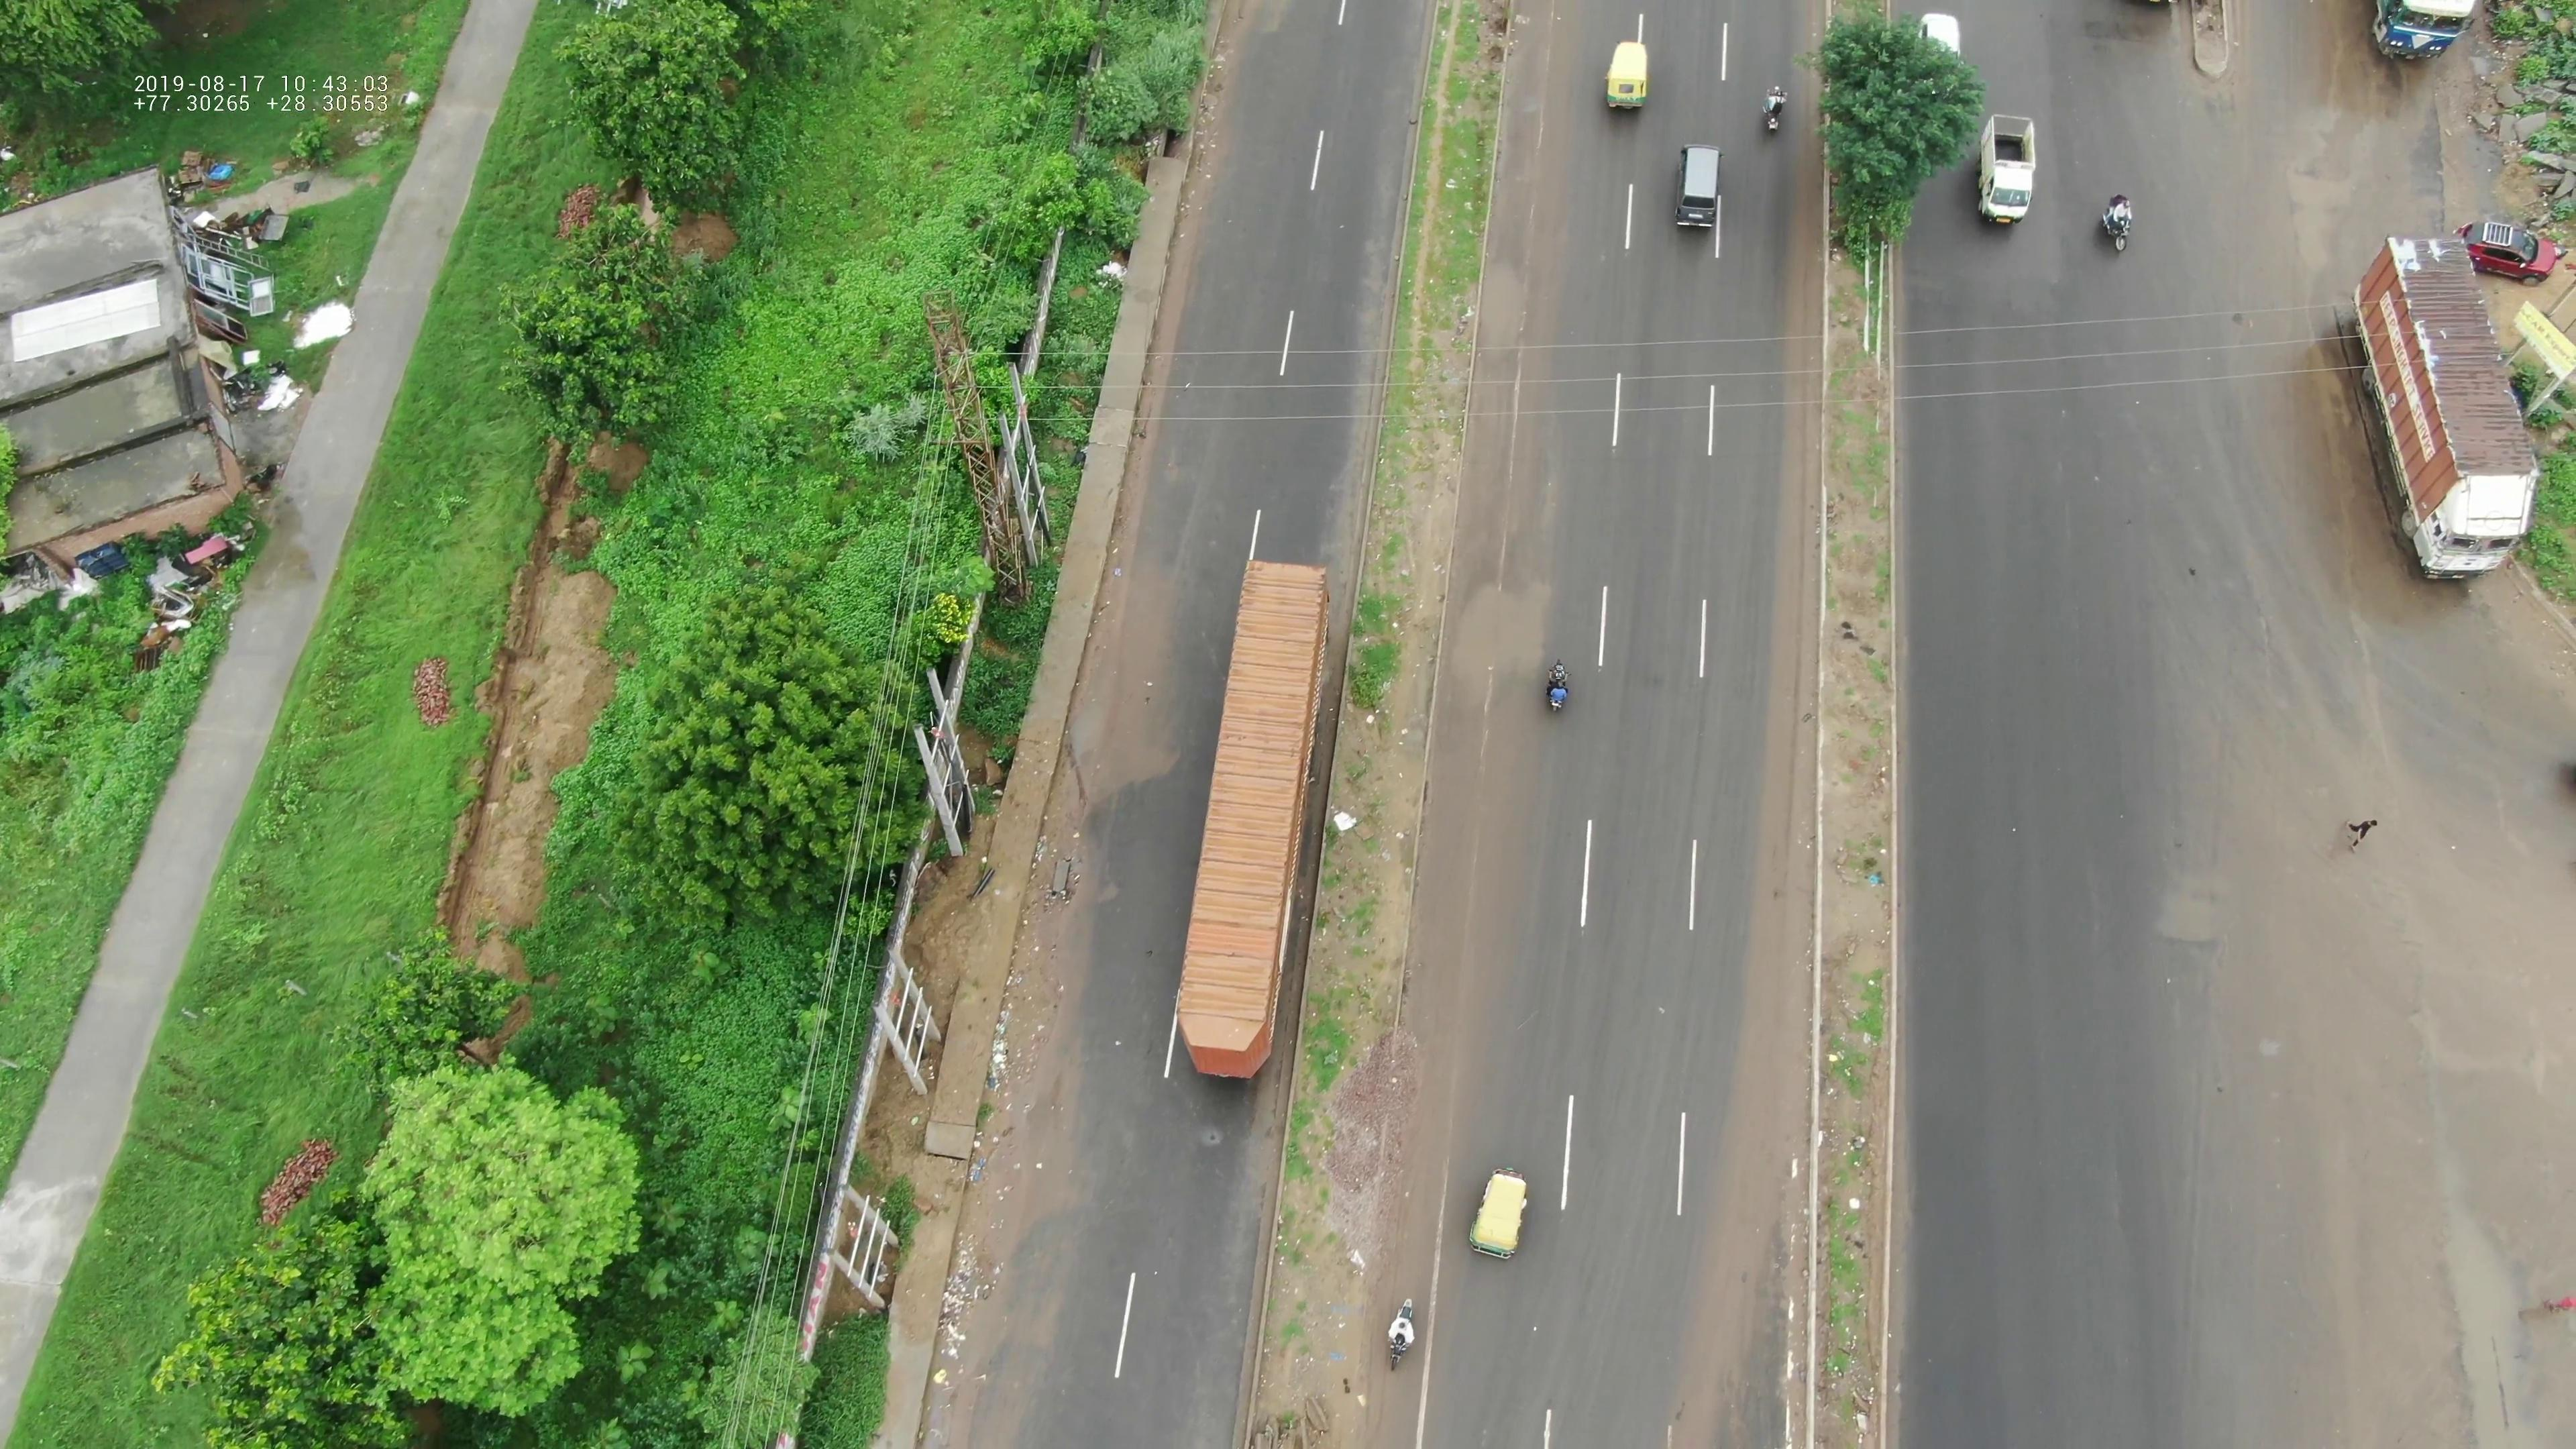Muddy_road: (932, 1143, 1047, 1373), (1054, 591, 1154, 821), (1007, 863, 1086, 1136)
Potholes: (2139, 851, 2318, 1077)
Waterlogging: (1433, 543, 1591, 702)
